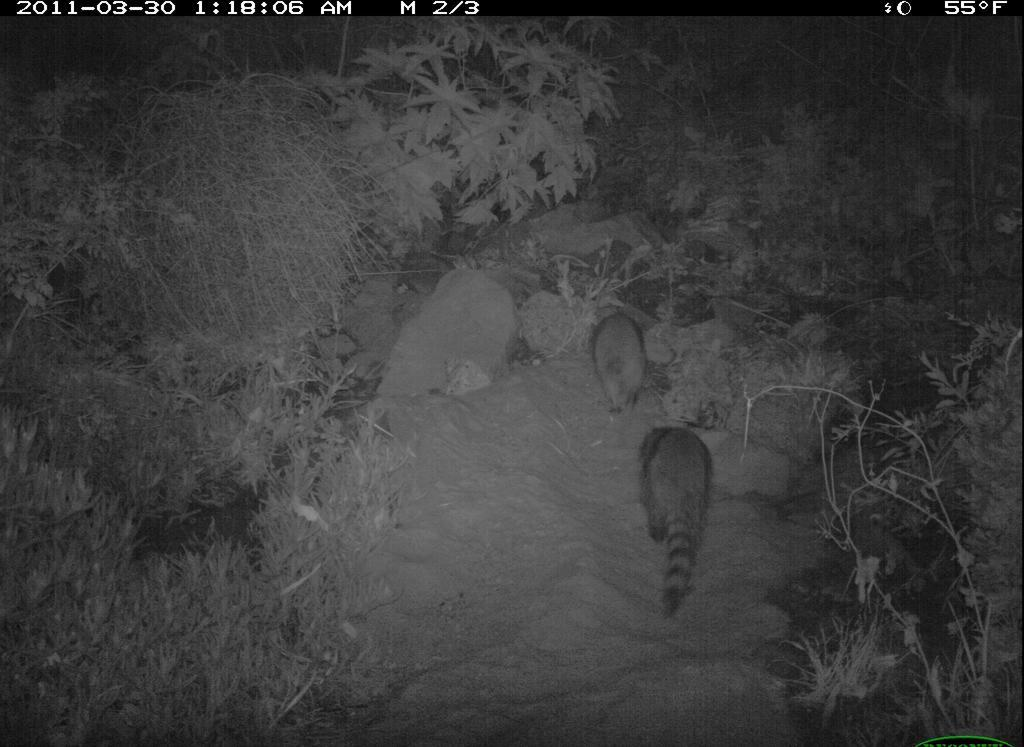raccoon: (637, 418, 726, 623), (587, 308, 651, 425)
